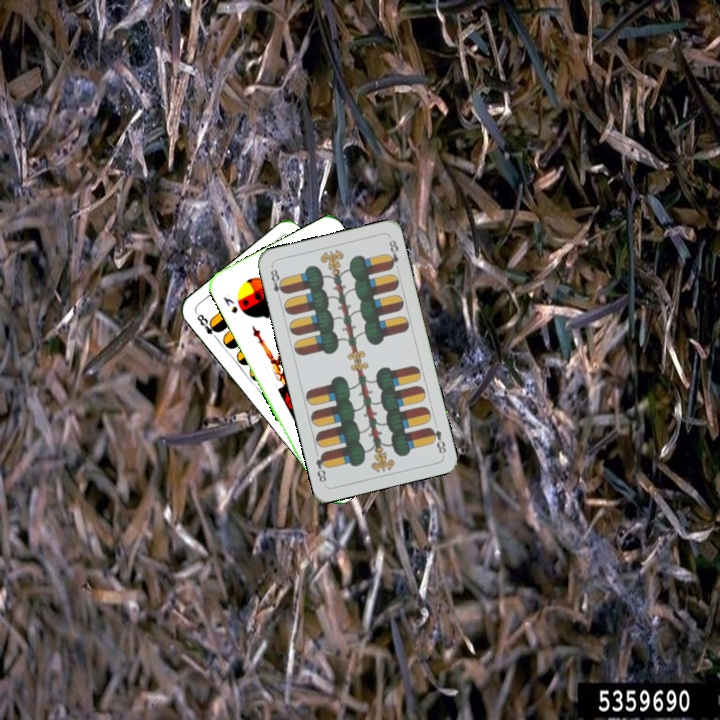E8: (193, 310, 223, 343), (266, 265, 288, 303), (425, 423, 449, 456)
SK: (219, 293, 240, 316)
